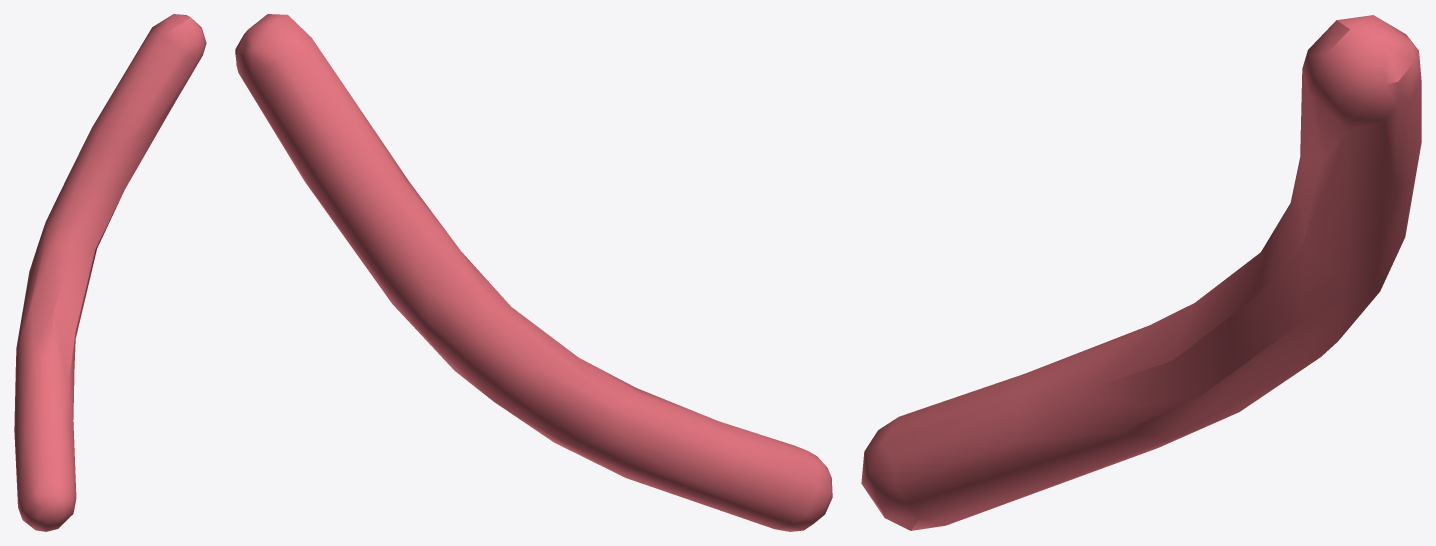
File: fma50641_fj5069.glb
3 views of the same model, side by side, from view 1: azimuth 30°, elevation 25°; view 2: azimuth 150°, elevation 25°; view 3: azimuth 270°, elevation 25° (orthographic). The views are drawn at different scales.
Visible parts, largest first — view 1: FMA50641_FJ5069; view 2: FMA50641_FJ5069; view 3: FMA50641_FJ5069.
Part boxes in pixels (bbox=[...]): FMA50641_FJ5069: bbox=[14, 14, 206, 531]; FMA50641_FJ5069: bbox=[235, 14, 832, 531]; FMA50641_FJ5069: bbox=[861, 15, 1421, 530].
Bounding box in the file's own units: 0.0055 × 0.00671 × 0.00457.
